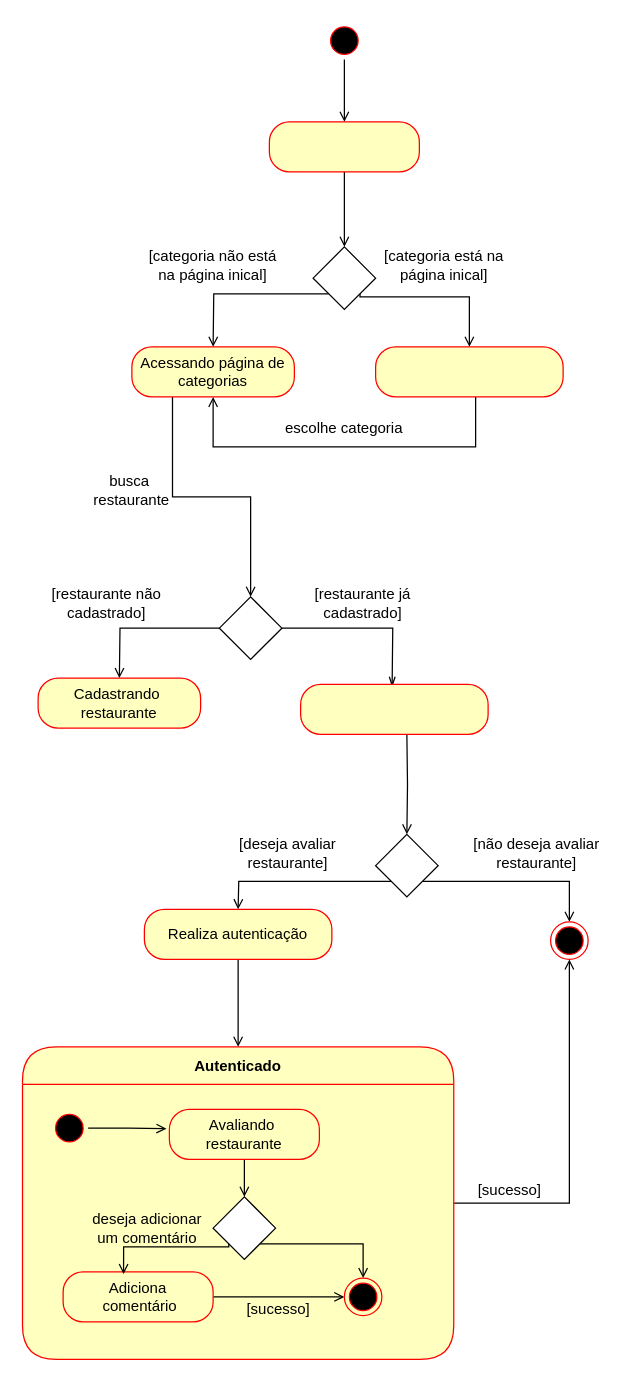
This 626x1381 diagram has some shape labels left out. Each missing label, with the centre of its shape:
"Acessando página inicial" belongs at pixel 343 146.
"Acessando resultados da categoria escolhida" belongs at pixel 468 371.
"Visualizando avaliações e comentários" belongs at pixel 393 708.
